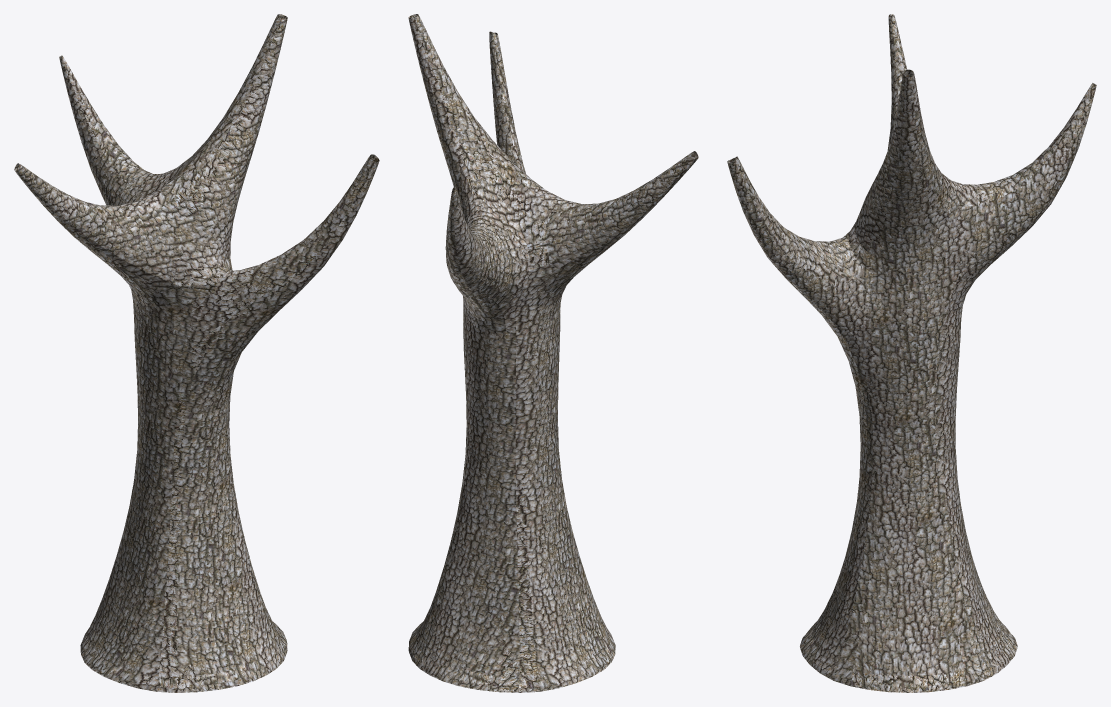
The model's file is arbol.obj.
3 renders of one model, left to right at view 1: azimuth 30°, elevation 25°; view 2: azimuth 150°, elevation 25°; view 3: azimuth 270°, elevation 25°, orthographic. The views are drawn at different scales.
Parts seen in each view (by area): view 1: Circle_Circle.001; view 2: Circle_Circle.001; view 3: Circle_Circle.001.
Boxes of the visible parts, box(x1,y1,x2,y2) form: Circle_Circle.001: box(14, 14, 379, 692); Circle_Circle.001: box(408, 14, 698, 692); Circle_Circle.001: box(727, 14, 1096, 692).
Size of the model in its own units: 1.96 by 4 by 2.13.
1 material, 1 textured.
